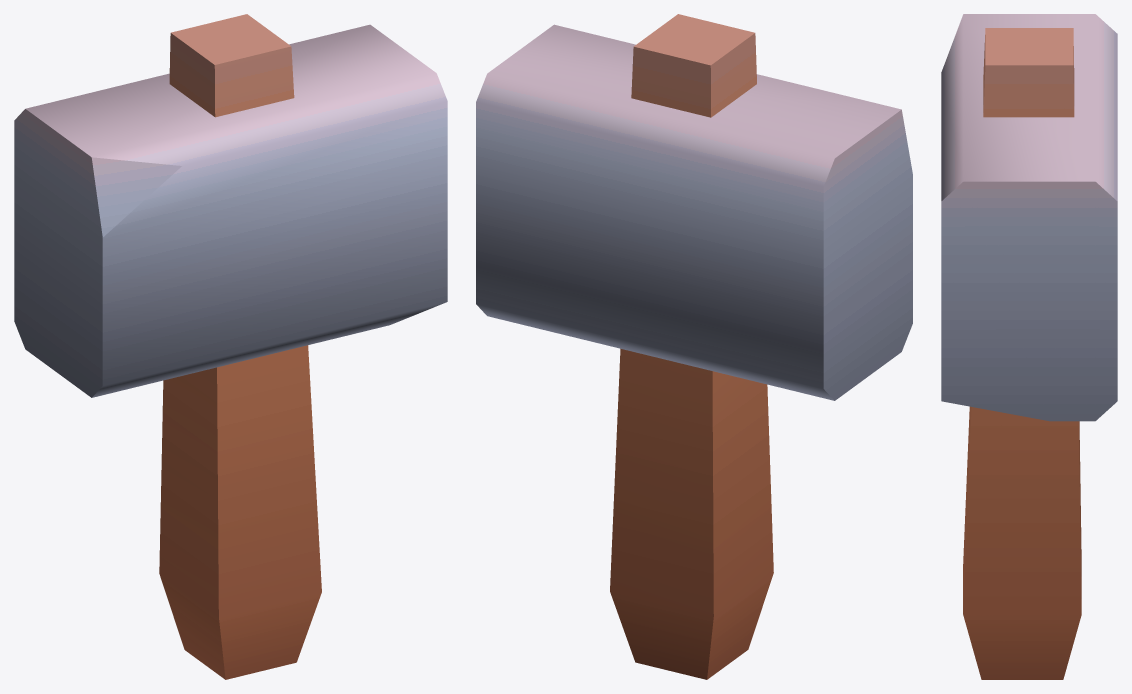
File: tool-hammer.glb
3 renders of one model, left to right at view 1: azimuth 30°, elevation 25°; view 2: azimuth 150°, elevation 25°; view 3: azimuth 270°, elevation 25°, orthographic.
Visible parts, largest first — view 1: tool-hammer; view 2: tool-hammer; view 3: tool-hammer.
Part boxes in pixels (box(x1,y1,x2,y2)): tool-hammer: box(14, 14, 447, 679); tool-hammer: box(476, 14, 912, 679); tool-hammer: box(941, 14, 1117, 679).
Bounding box in the file's own units: 0.09 × 0.1535 × 0.04.
1 material, 1 textured.
